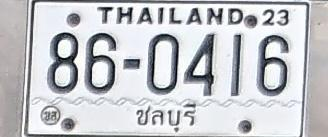0: (146, 32, 180, 94)
1: (230, 34, 243, 96)
4: (184, 32, 216, 96)
6: (84, 32, 118, 94), (257, 34, 290, 96)
8: (47, 32, 78, 94)
CBI: (129, 99, 202, 132)
